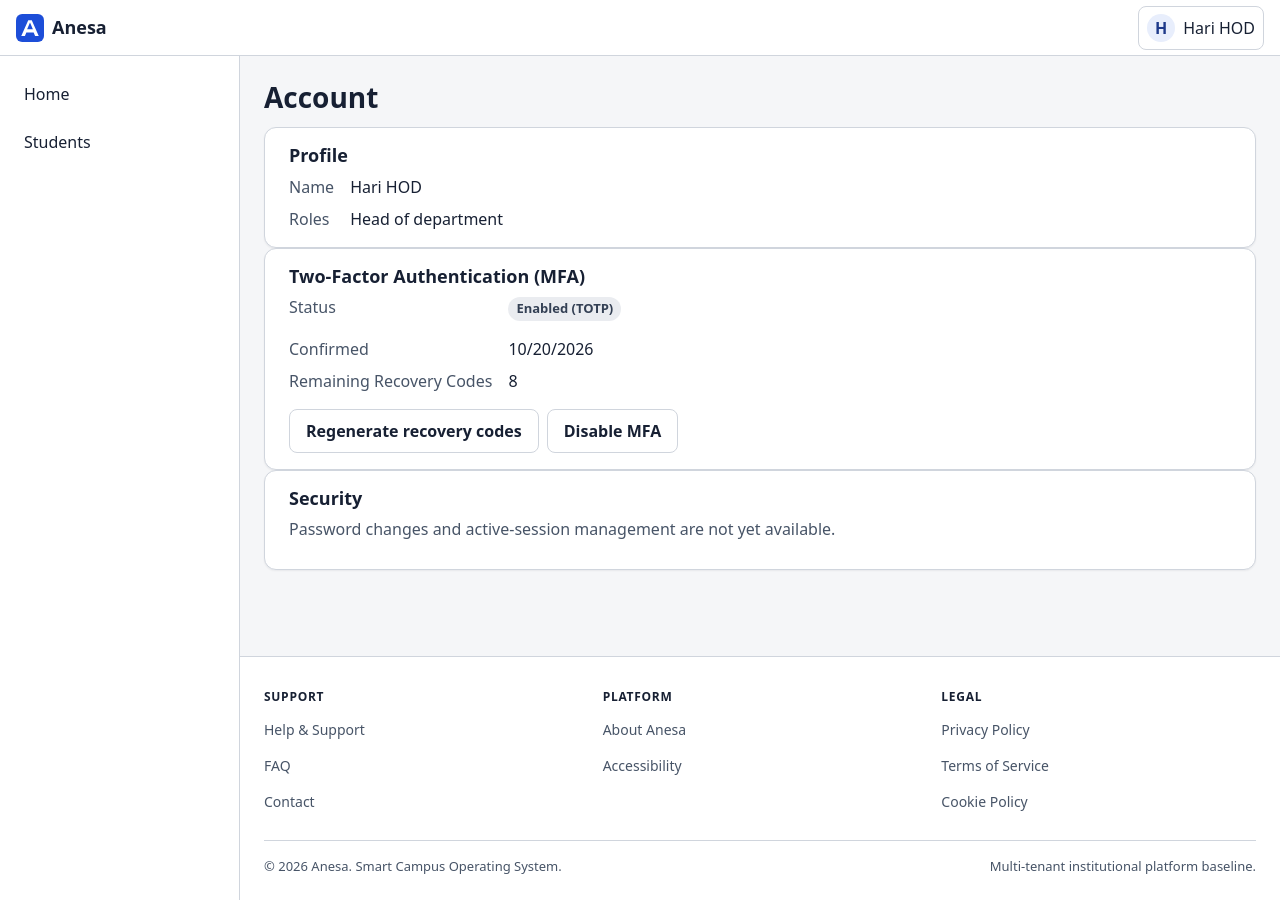
Test: step-up on a CRITICAL operation (second factor, the backend default PASSWORD_MFA) › cancel (Escape) behaves the same
The image size is (1280, 900).
Click the button "Regenerate recovery codes" at (414, 430), box [289,408,539,452]
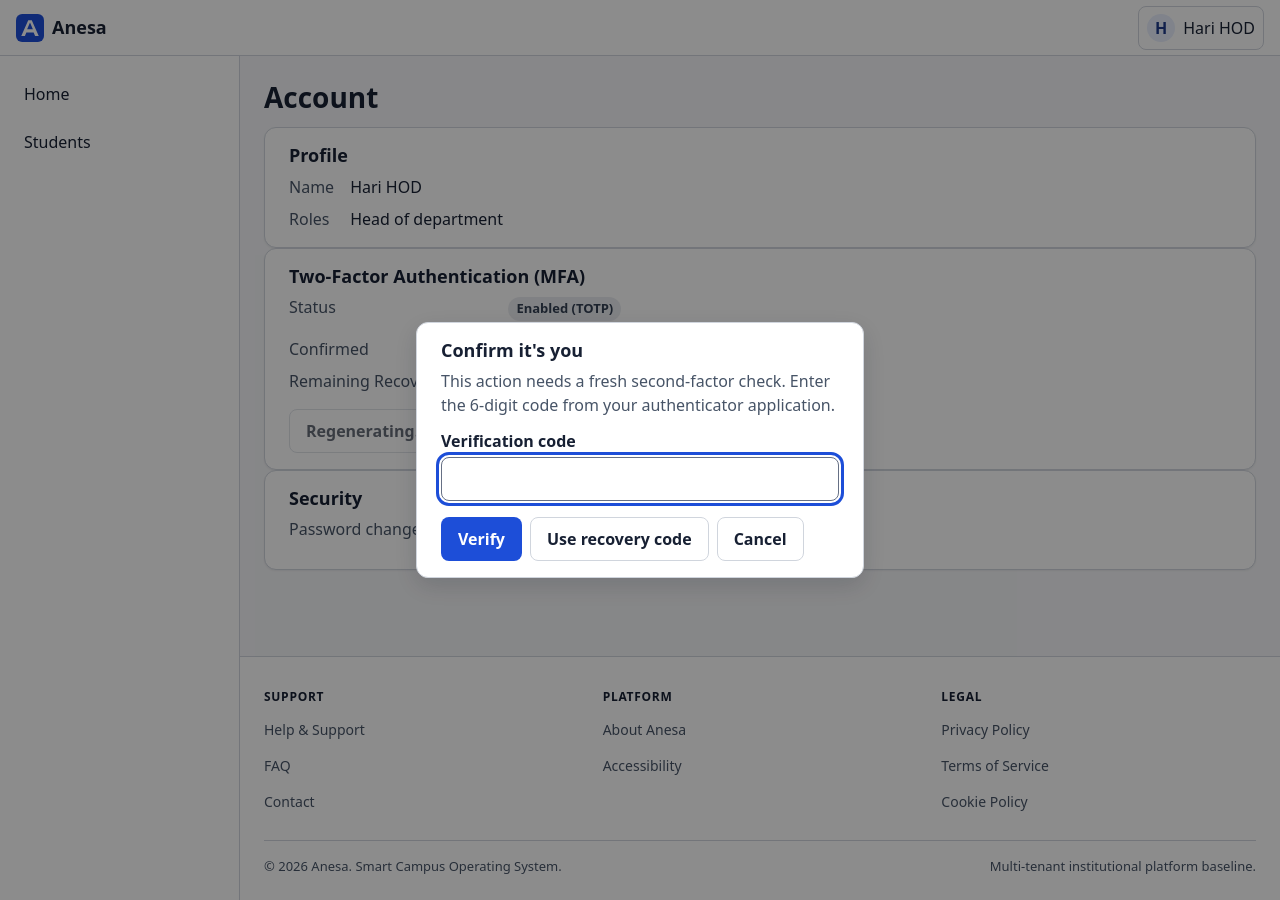
Expected: the dialog is shown, [416,322,864,578]
Press Escape
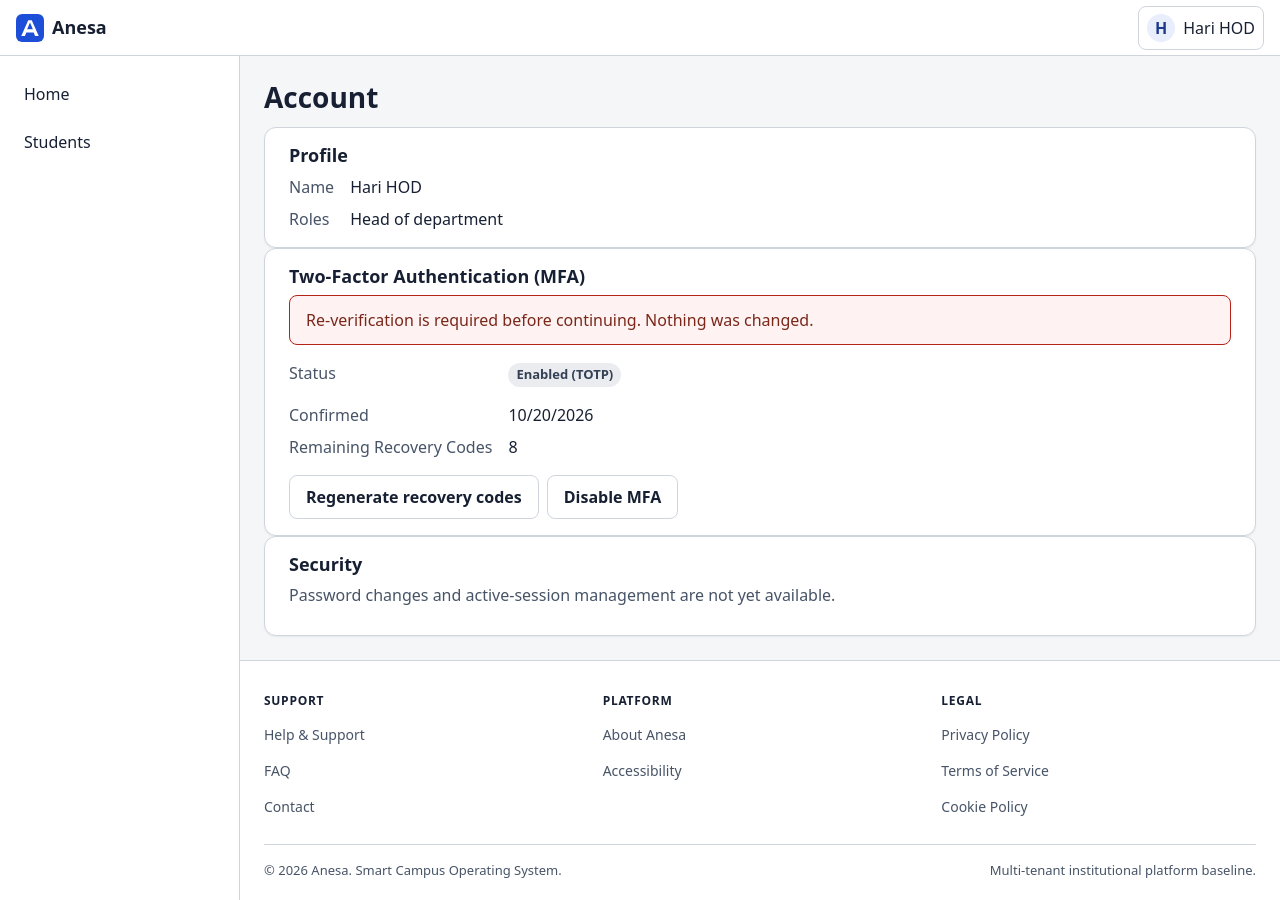
Expected: the dialog is gone
